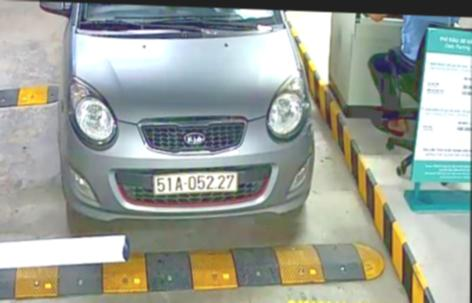License_Plate: (150, 170, 248, 197)
